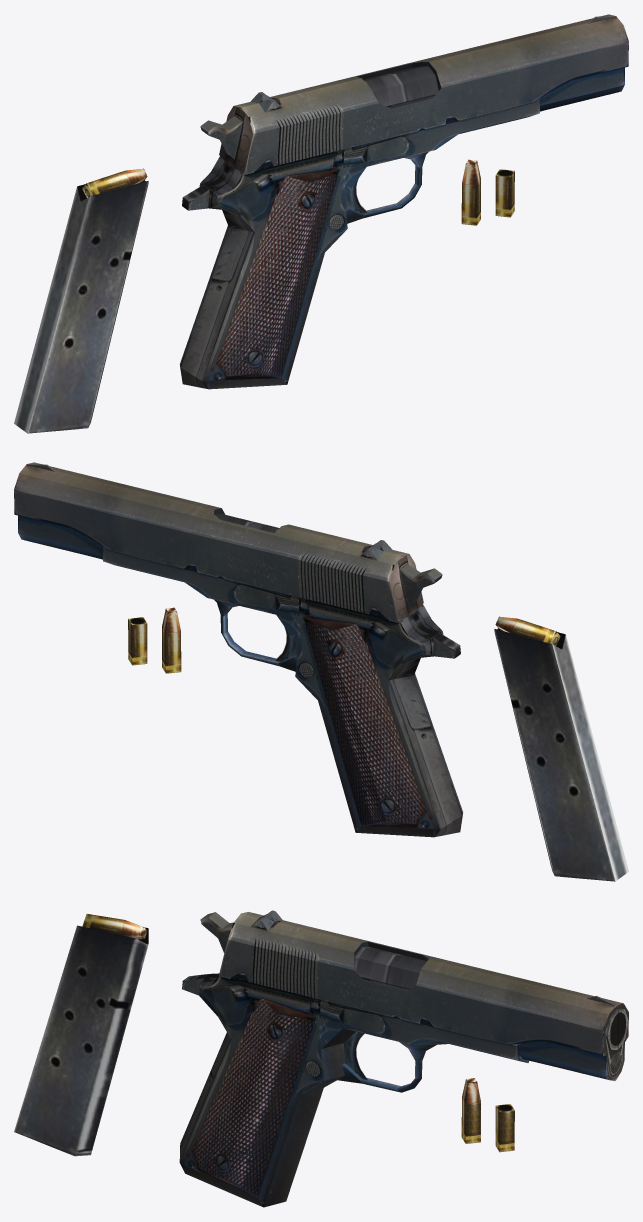
3 views of the same model, one above another, from view 1: azimuth 30°, elevation 25°; view 2: azimuth 150°, elevation 25°; view 3: azimuth 330°, elevation 25° (orthographic).
Parts seen in each view (by area): view 1: 1911_Body, 1911_Slide, 1911_Mag_Full, 45ACP, 1911_Hammer, 45ACP_Shell; view 2: 1911_Body, 1911_Slide, 1911_Mag_Full, 45ACP, 1911_Hammer, 45ACP_Shell; view 3: 1911_Body, 1911_Slide, 1911_Mag_Full, 45ACP, 45ACP_Shell, 1911_Hammer, 1911_Trigger.
Part boxes in pixels (left/top/right/bottom): 1911_Body: left=179, top=66, right=539, bottom=389; 1911_Slide: left=219, top=14, right=628, bottom=173; 1911_Mag_Full: left=14, top=168, right=148, bottom=433; 45ACP: left=461, top=159, right=480, bottom=225; 1911_Hammer: left=200, top=116, right=242, bottom=159; 45ACP_Shell: left=495, top=169, right=514, bottom=217; 1911_Body: left=103, top=514, right=463, bottom=837; 1911_Slide: left=14, top=462, right=423, bottom=621; 1911_Mag_Full: left=494, top=616, right=628, bottom=881; 45ACP: left=162, top=607, right=181, bottom=673; 1911_Hammer: left=400, top=564, right=442, bottom=607; 45ACP_Shell: left=128, top=617, right=147, bottom=665; 1911_Body: left=179, top=947, right=628, bottom=1207; 1911_Slide: left=219, top=910, right=628, bottom=1080; 1911_Mag_Full: left=14, top=914, right=148, bottom=1156; 45ACP: left=461, top=1078, right=480, bottom=1143; 45ACP_Shell: left=495, top=1104, right=514, bottom=1152; 1911_Hammer: left=200, top=912, right=233, bottom=952; 1911_Trigger: left=343, top=1031, right=367, bottom=1079.
Bounding box in the file's own units: 3.38 × 1.53 × 0.3399.
6 materials, 6 textured.
